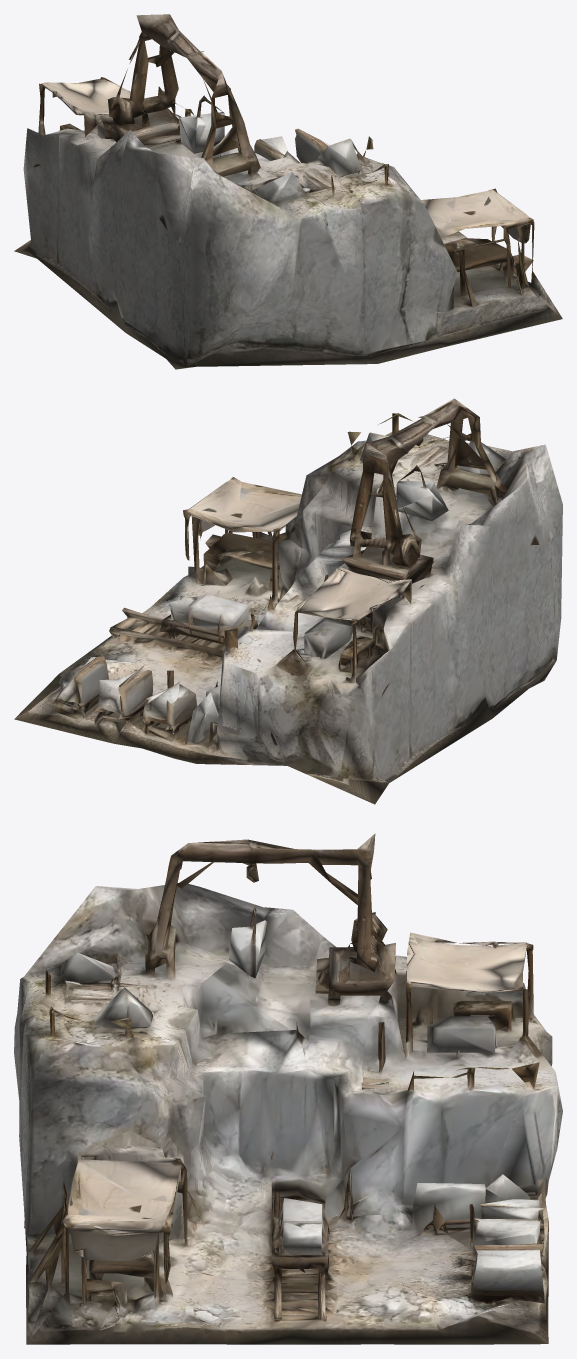
The model's file is stone_quarry_2.glb.
The picture shows the model from 3 angles, top to bottom: view 1: azimuth 30°, elevation 25°; view 2: azimuth 150°, elevation 25°; view 3: azimuth 270°, elevation 25°; orthographic projection. The views are drawn at different scales.
Visible parts, largest first — view 1: tripo_node_759ab16e-ed8c-48ee-94cc-54f1a246cf25; view 2: tripo_node_759ab16e-ed8c-48ee-94cc-54f1a246cf25; view 3: tripo_node_759ab16e-ed8c-48ee-94cc-54f1a246cf25.
Boxes of the visible parts, x1=… form: tripo_node_759ab16e-ed8c-48ee-94cc-54f1a246cf25: x1=14, y1=14, x2=562, y2=369; tripo_node_759ab16e-ed8c-48ee-94cc-54f1a246cf25: x1=14, y1=398, x2=562, y2=804; tripo_node_759ab16e-ed8c-48ee-94cc-54f1a246cf25: x1=14, y1=833, x2=562, y2=1344.
Bounding box in the file's own units: 0.8803 × 0.6541 × 0.9639.
Materials: 1 (1 with a texture image).
